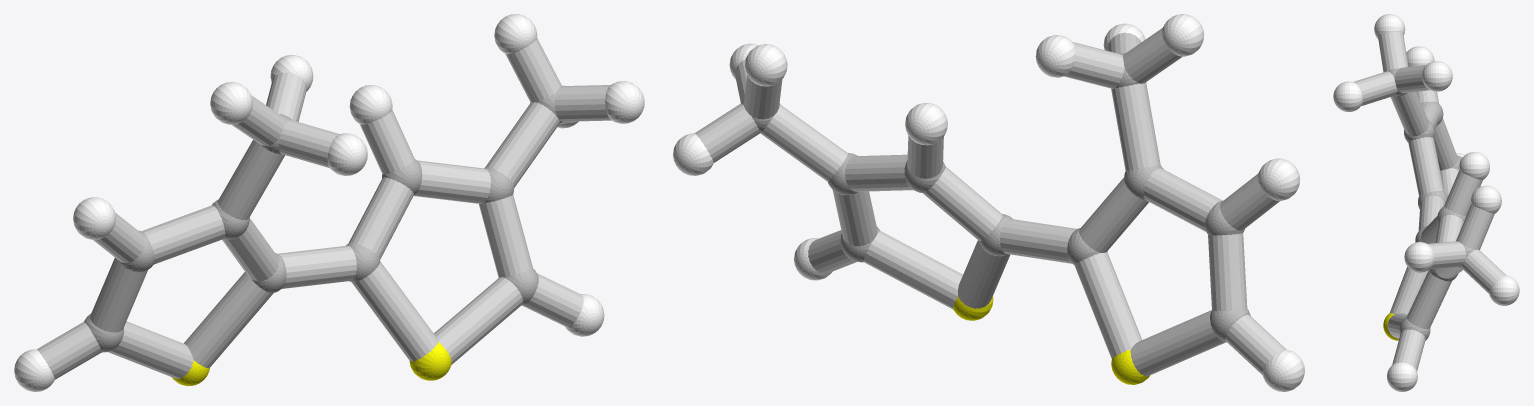
File: color.glb
The picture shows the model from 3 angles, left to right: view 1: azimuth 30°, elevation 25°; view 2: azimuth 150°, elevation 25°; view 3: azimuth 270°, elevation 25°; orthographic projection. The views are drawn at different scales.
Parts seen in each view (by area): view 1: grp7965, grp3621, grp1, grp7241; view 2: grp7965, grp3621, grp1, grp7241; view 3: grp7965, grp3621, grp1.
Boxes of the visible parts, x1,y1,x2,y2 form: grp7965: (37, 38, 611, 379); grp3621: (14, 14, 644, 391); grp1: (84, 92, 563, 352); grp7241: (172, 342, 451, 385); grp7965: (694, 28, 1286, 376); grp3621: (673, 14, 1304, 391); grp1: (741, 53, 1250, 342); grp7241: (953, 296, 1149, 384); grp7965: (1353, 31, 1505, 370); grp3621: (1333, 14, 1519, 391); grp1: (1388, 68, 1474, 340).
Size of the model in its own units: 9.65 by 5.39 by 3.61.
